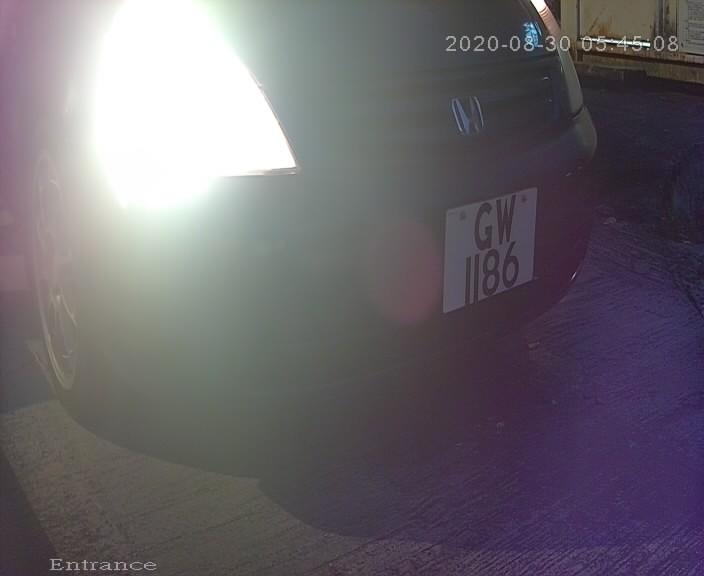License Plate: (434, 175, 538, 327)
